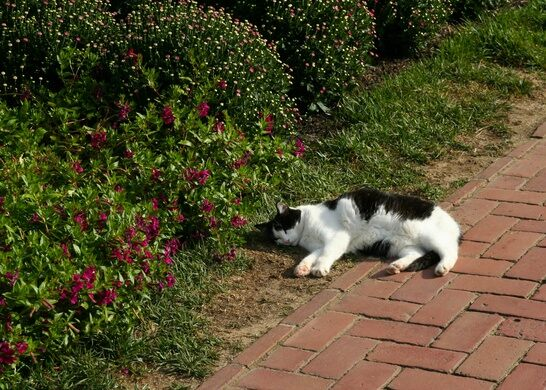cat: (267, 195, 464, 272)
